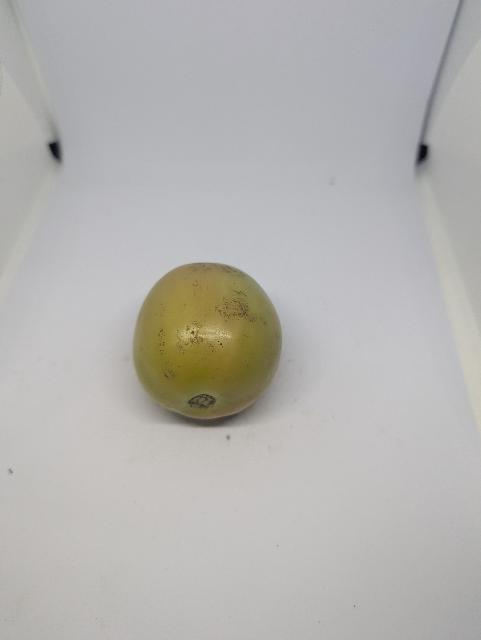breaker: (129, 256, 291, 428)
